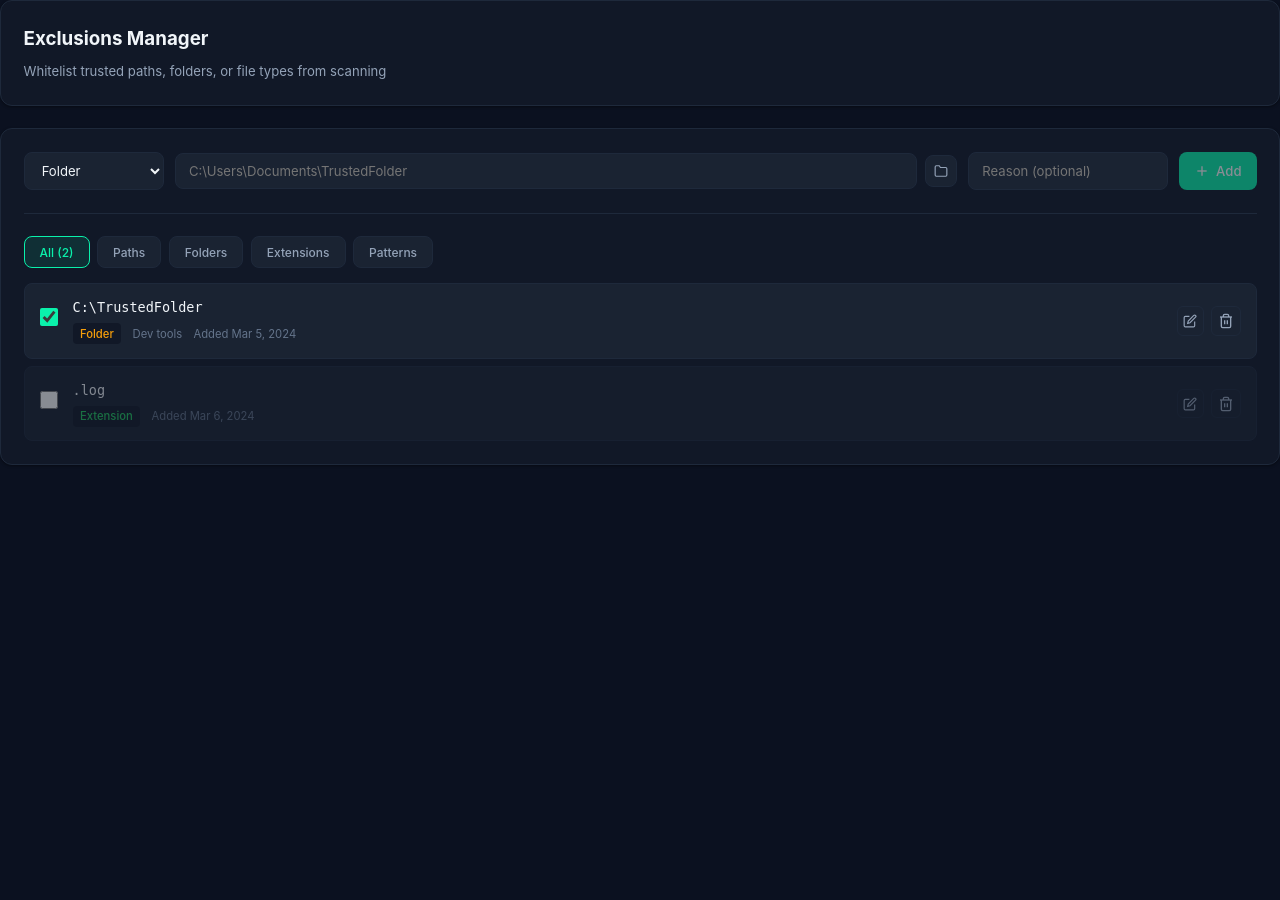
Test: ExclusionsManager › does not delete when confirmation is cancelled
The width and height of the screenshot is (1280, 900).
Click the button titled "Delete" in the row of "Added Mar 5, 2024" at (1226, 321), box [1211,306,1241,336]
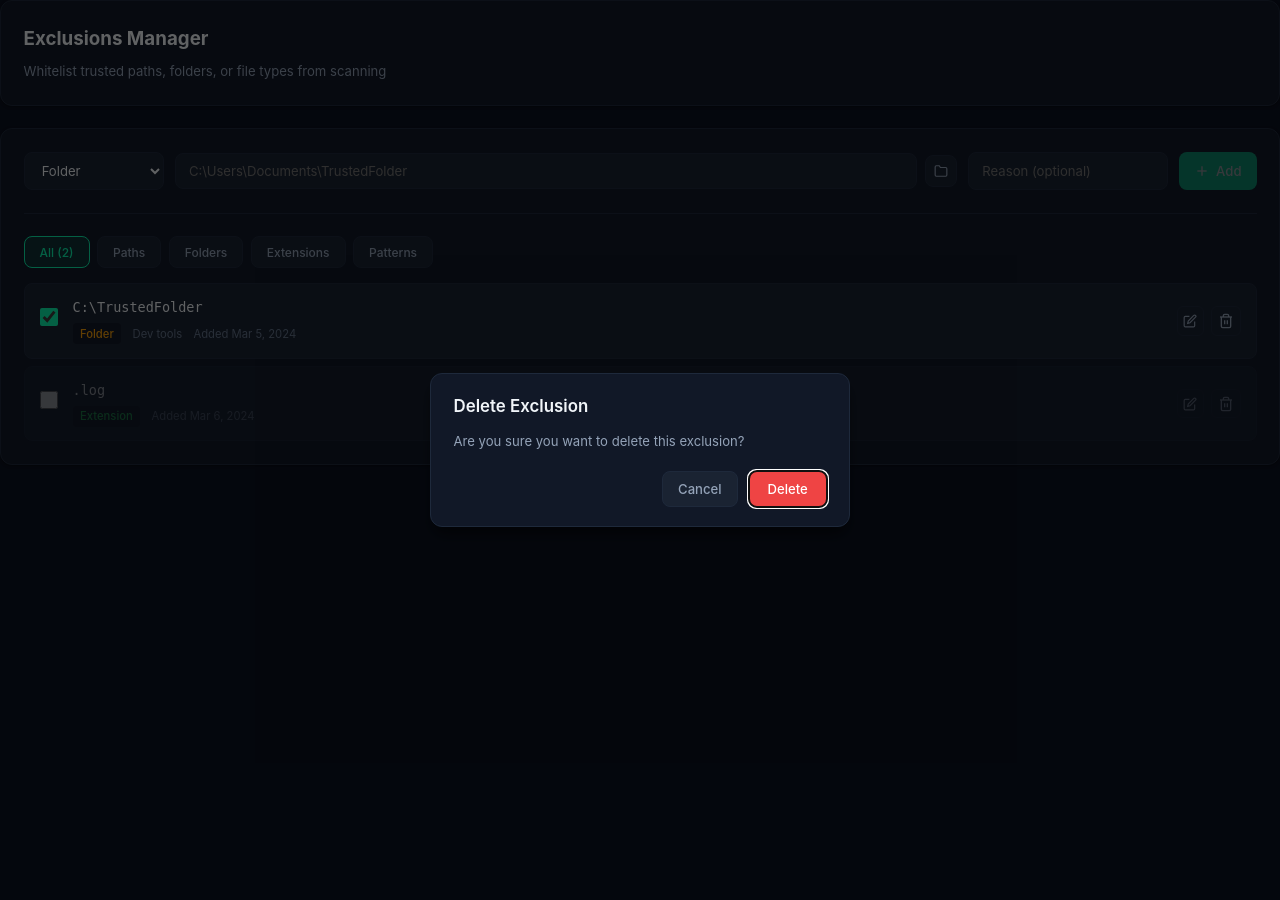
Result: the heading "Delete Exclusion" is shown at [454,396,588,416]
Click the button "Cancel" at (700, 489), box [662,471,738,507]
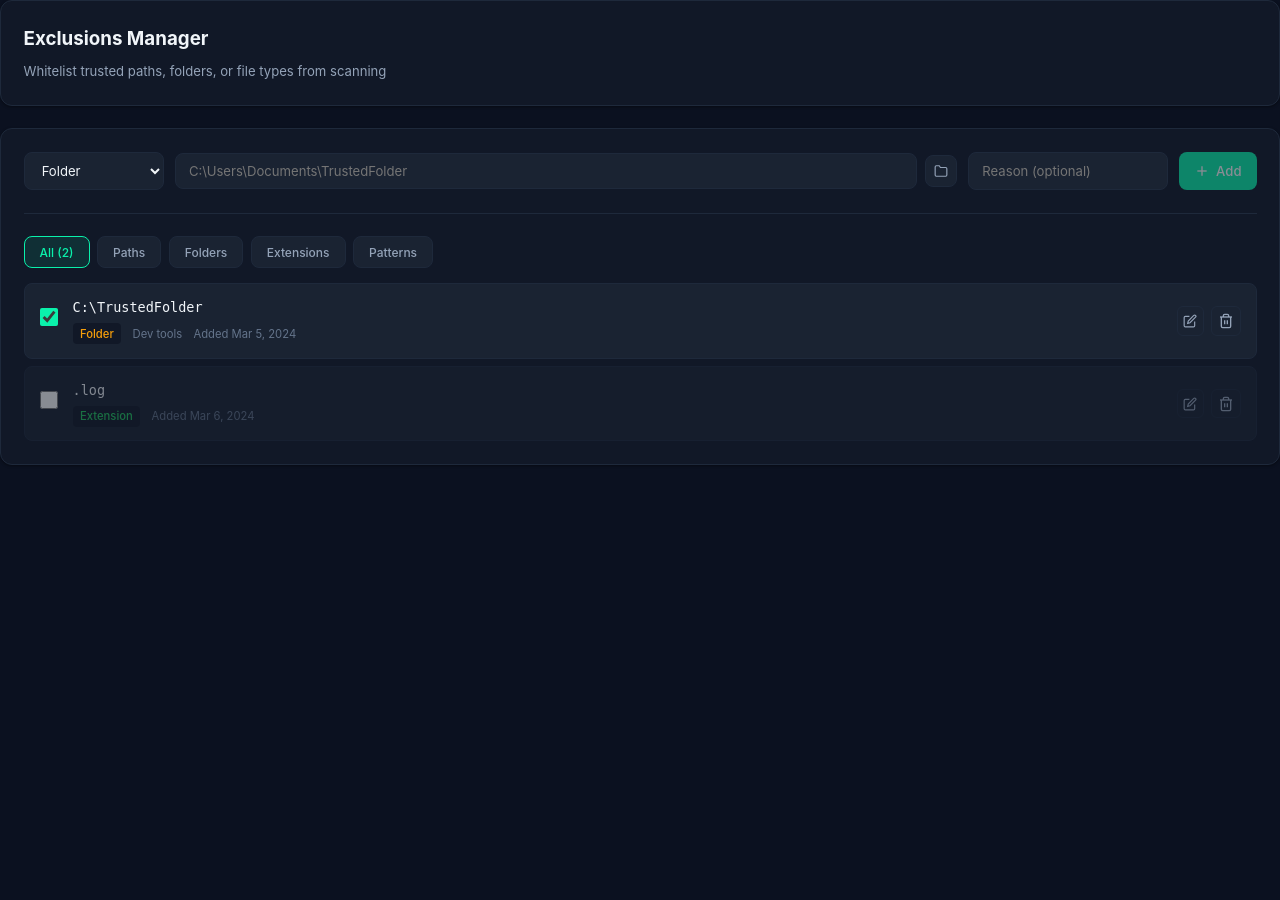
Result: the heading "Delete Exclusion" is gone
